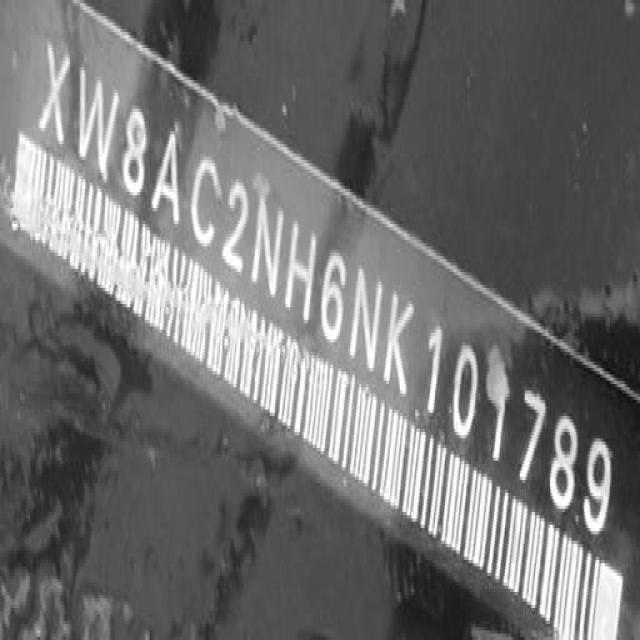0: (450, 345, 480, 447)
1: (478, 340, 515, 483), (415, 307, 449, 441)
2: (217, 165, 254, 287)
6: (317, 248, 347, 344)
7: (518, 382, 547, 499)
8: (543, 402, 585, 528), (121, 100, 150, 208)
9: (581, 427, 616, 540)
A: (146, 104, 190, 240)
C: (182, 132, 226, 258)
H: (279, 197, 322, 333)
K: (382, 284, 414, 408)
N: (344, 246, 389, 384), (245, 174, 288, 315)
W: (70, 58, 125, 188)
X: (38, 42, 72, 145)
